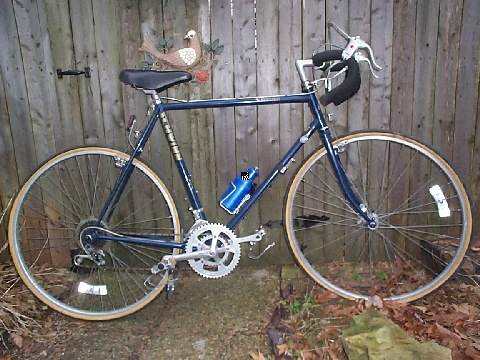bottle: (220, 165, 262, 217)
car: (7, 22, 475, 323)
